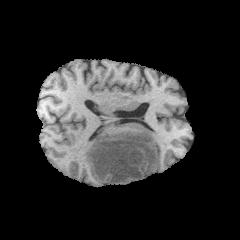glioma: (85, 130, 156, 184)
